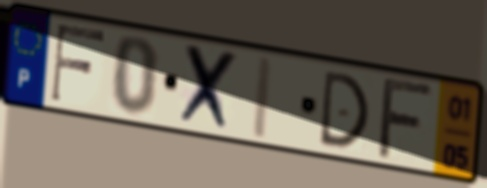0: (110, 33, 162, 120)
D: (316, 68, 372, 151)
F: (374, 76, 439, 163), (47, 22, 108, 105)
I: (247, 52, 277, 143)
X: (174, 40, 241, 138)
